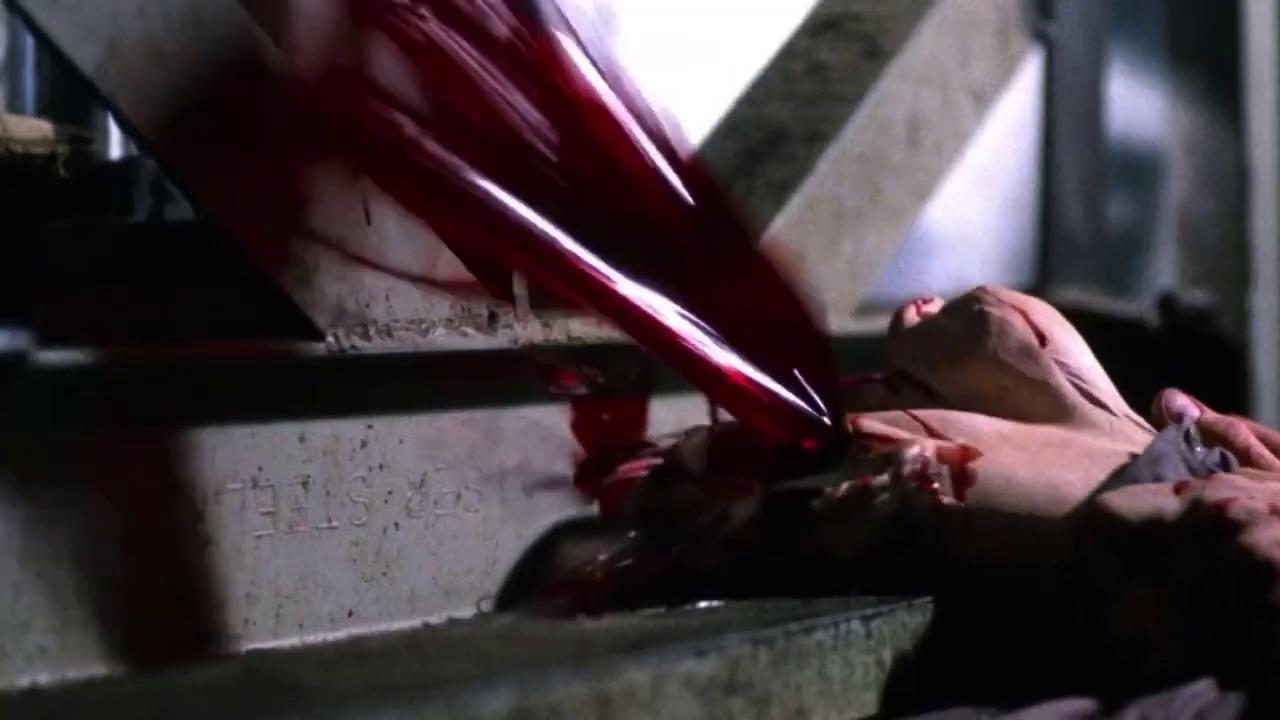Fire: (26, 0, 841, 450)
